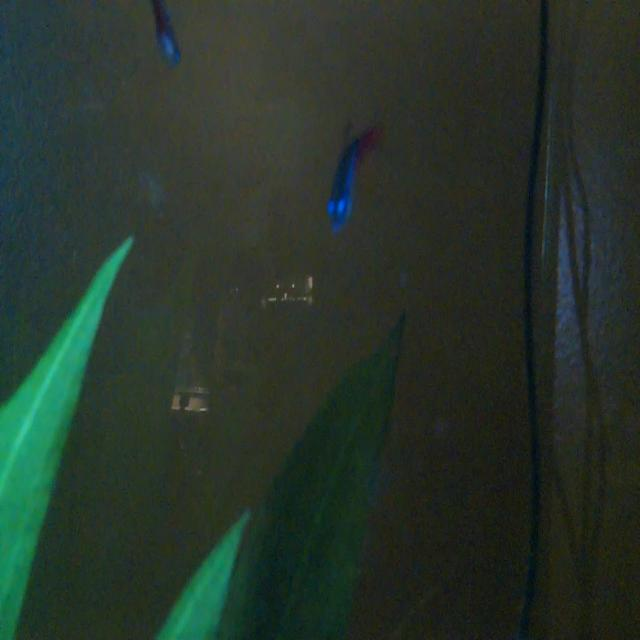fish: (294, 100, 390, 244)
